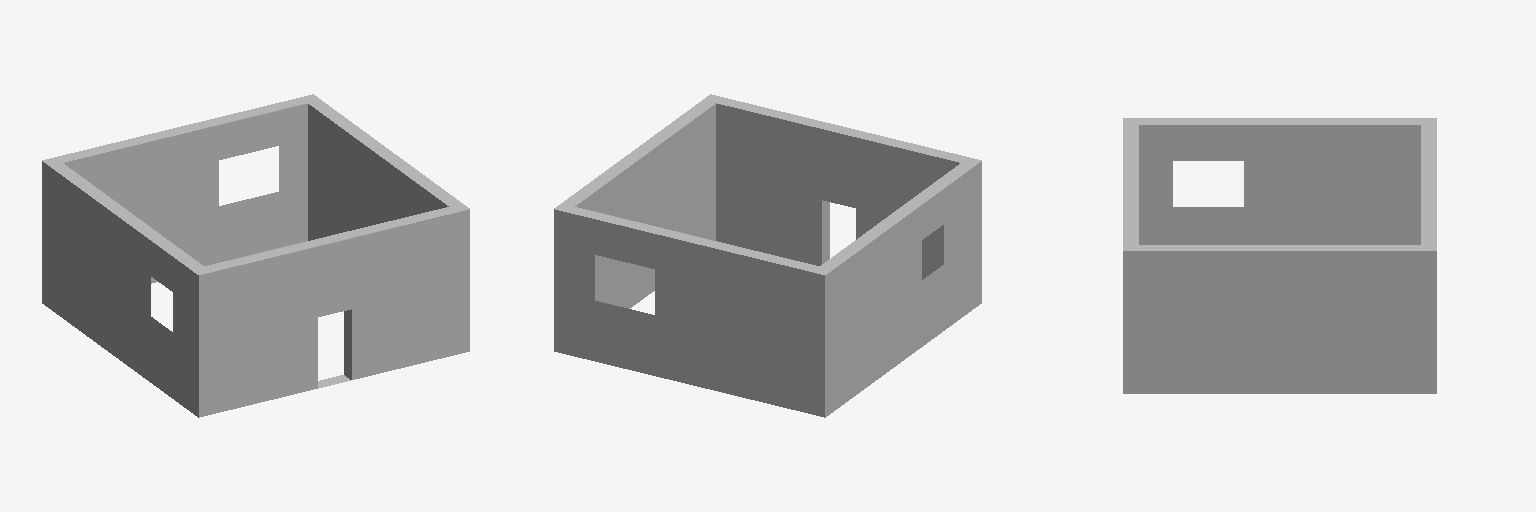
The model's file is house2.obj.
3 views of the same model, side by side, from view 1: azimuth 30°, elevation 25°; view 2: azimuth 150°, elevation 25°; view 3: azimuth 270°, elevation 25° (orthographic).
Parts seen in each view (by area): view 1: WallDoor_Cube.012, WallWindow2_Cube.015, WallWindow1_Cube.014, WallSolid_Cube.013; view 2: WallWindow2_Cube.015, WallDoor_Cube.012, WallWindow1_Cube.014, WallSolid_Cube.013; view 3: WallSolid_Cube.013, WallWindow1_Cube.014, WallDoor_Cube.012, WallWindow2_Cube.015.
Part boxes in pixels (x1,y1,x2,y2): WallDoor_Cube.012: (191,204,469,417); WallWindow2_Cube.015: (42,94,320,307); WallWindow1_Cube.014: (49,163,203,411); WallSolid_Cube.013: (308,100,462,240); WallWindow2_Cube.015: (554,204,832,417); WallDoor_Cube.012: (703,94,981,307); WallWindow1_Cube.014: (820,163,974,411); WallSolid_Cube.013: (561,100,715,308); WallSolid_Cube.013: (1138,245,1421,393); WallWindow1_Cube.014: (1138,118,1421,244); WallDoor_Cube.012: (1123,118,1138,393); WallWindow2_Cube.015: (1421,118,1436,393).
Bounding box in the file's own units: 20 × 10 × 20.